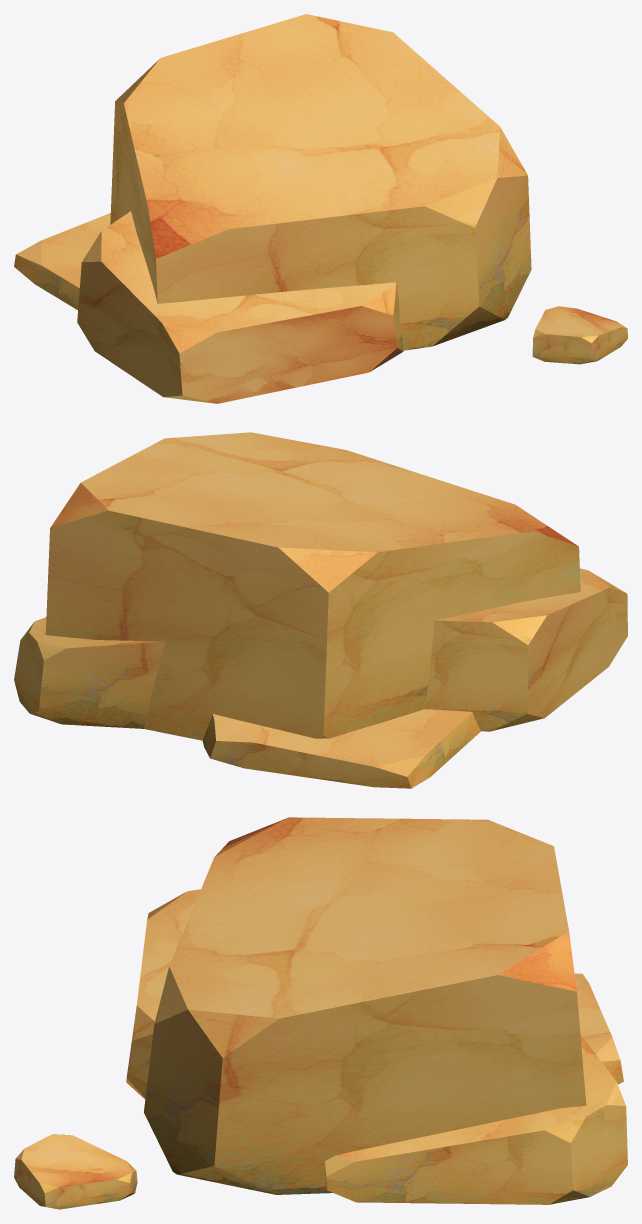
Rendered from rockdesert001.glb.
3 views of the same model, one above another, from view 1: azimuth 30°, elevation 25°; view 2: azimuth 150°, elevation 25°; view 3: azimuth 270°, elevation 25° (orthographic). The views are drawn at different scales.
Parts seen in each view (by area): view 1: rockDesert001; view 2: rockDesert001; view 3: rockDesert001.
Boxes of the visible parts, <box> form: rockDesert001: <box>14,14,627,403</box>; rockDesert001: <box>14,432,627,788</box>; rockDesert001: <box>14,817,627,1209</box>.
Bounding box in the file's own units: 0.8373 × 0.3715 × 0.9252.
1 material, 1 textured.
